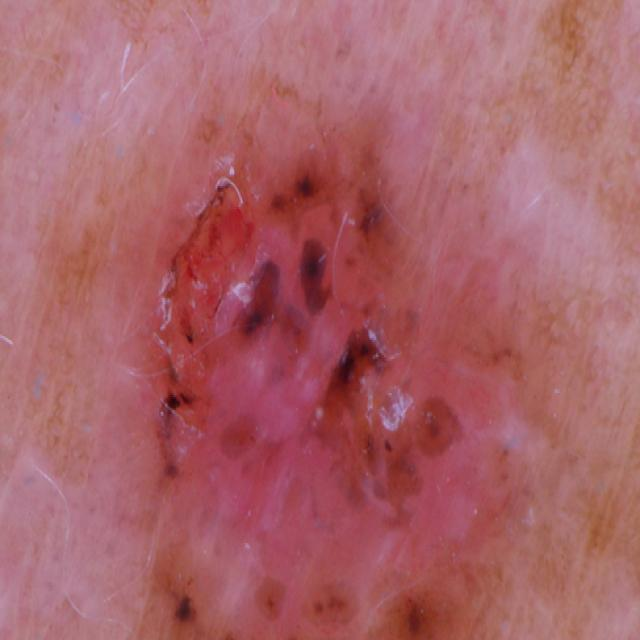Carcinoma: (116, 112, 503, 640)
